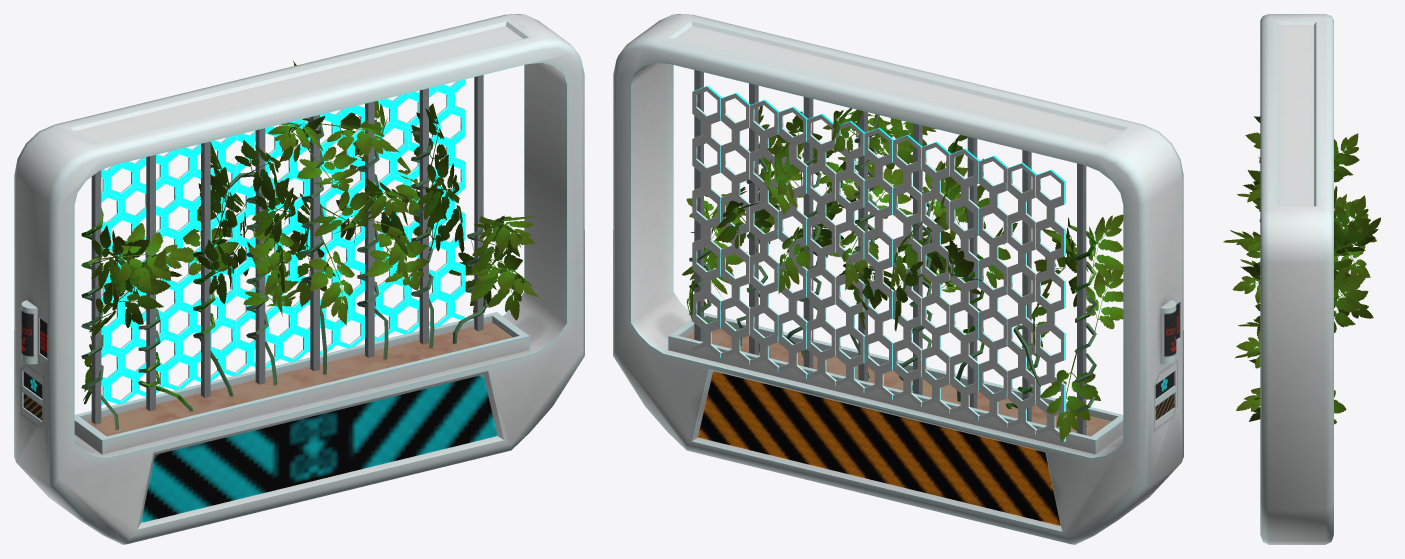
Rendered from neon1.fbx.
3 renders of one model, left to right at view 1: azimuth 30°, elevation 25°; view 2: azimuth 150°, elevation 25°; view 3: azimuth 270°, elevation 25°, orthographic. The views are drawn at different scales.
Visible parts, largest first — view 1: Neon1; view 2: Neon1; view 3: Neon1.
Part boxes in pixels (left/top/right/bottom): Neon1: left=14, top=14, right=584, bottom=544; Neon1: left=613, top=14, right=1183, bottom=544; Neon1: left=1223, top=14, right=1380, bottom=544.
Bounding box in the file's own units: 282 × 202 × 92.75.
Materials: 3 (3 with a texture image).
